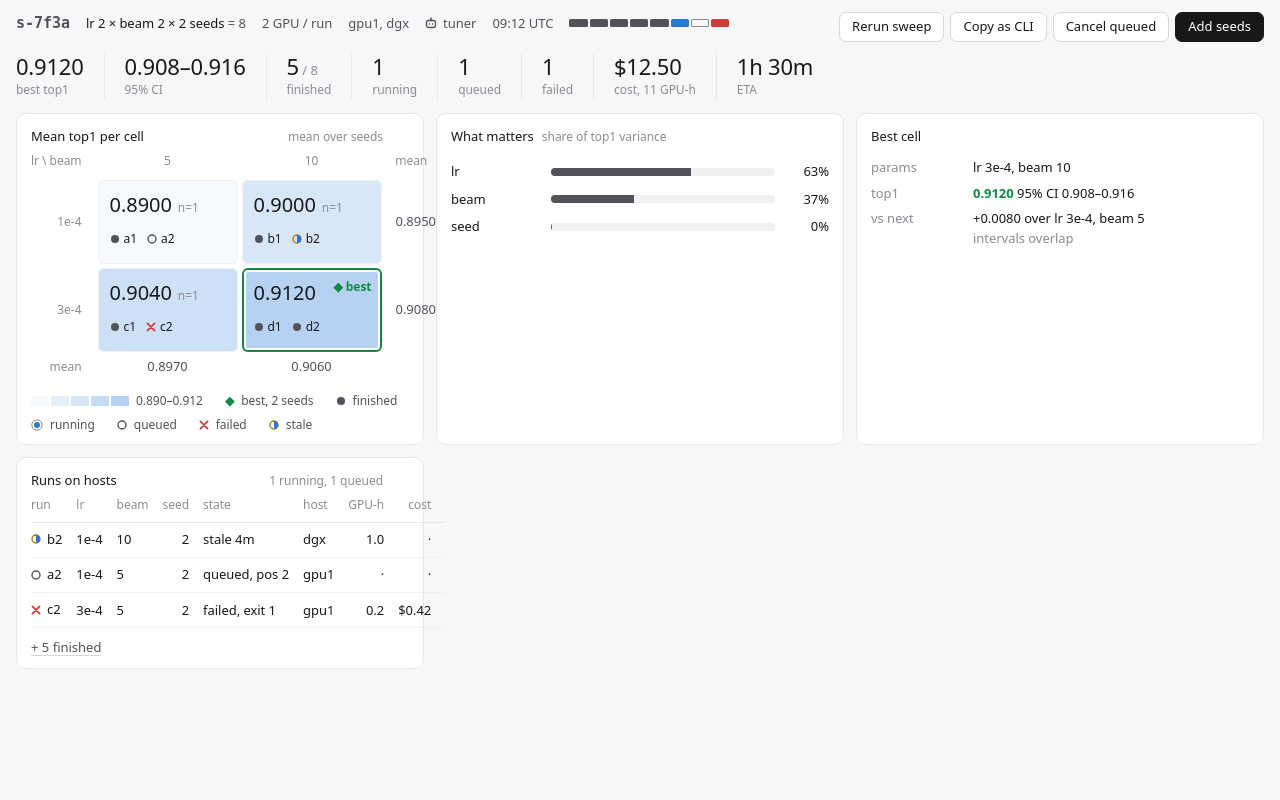
Test: SweepDetail › Add seeds while runs are still queued: new totals, Cancel covers them, later seeds next
What coordinates should you click on to do the following:
click the button "Add seeds"
I would click on:
 (1220, 27)
Its box is [1175,12,1264,42].
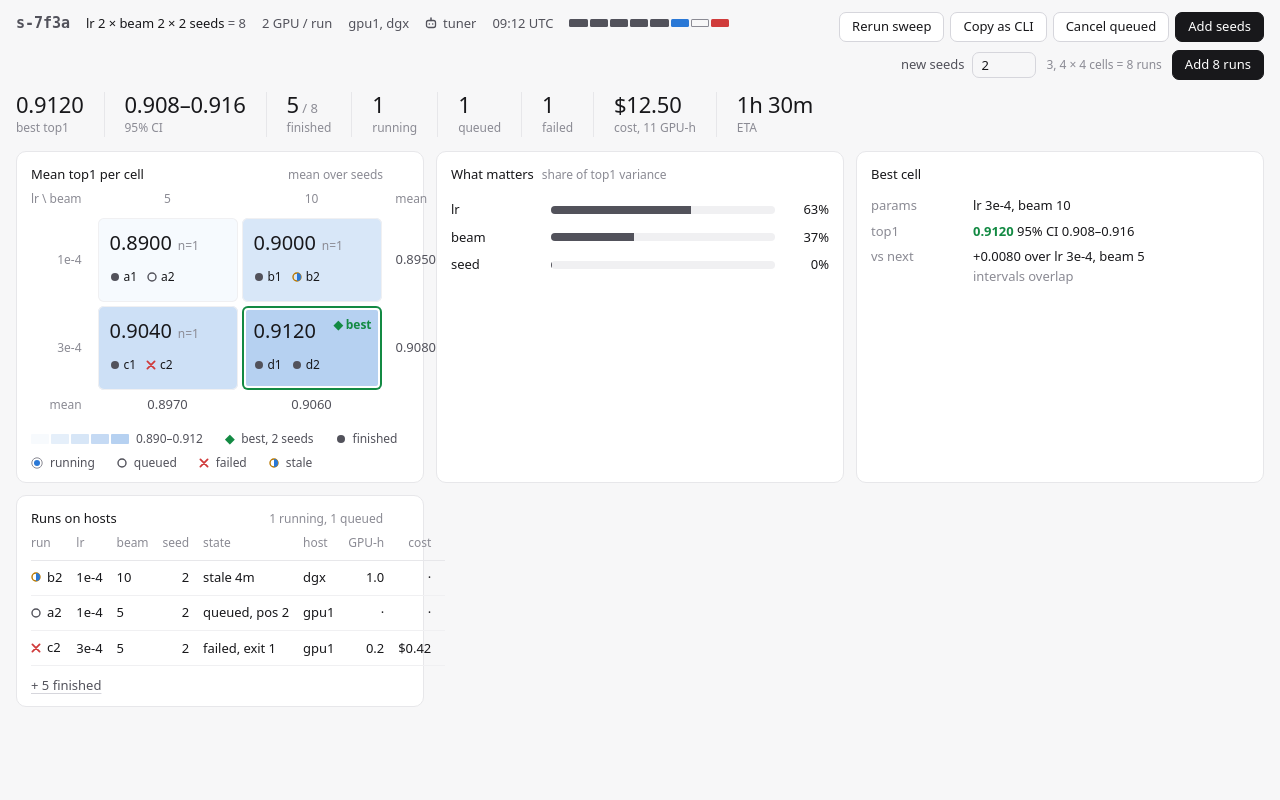
What coordinates should you click on to do the following:
click the button "Add 8 runs"
I would click on:
 (1218, 65)
Its box is [1172,50,1264,80].
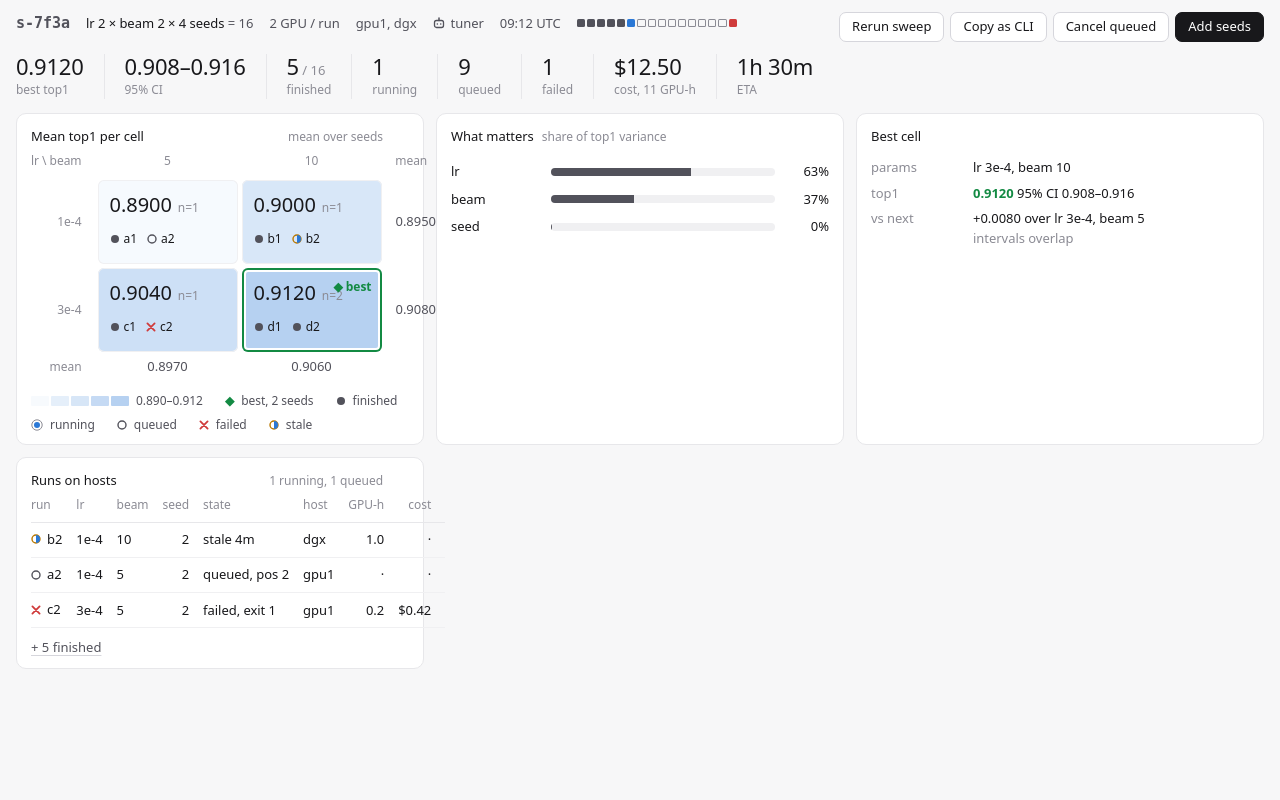
What coordinates should you click on to do the following:
click the button "Add seeds"
I would click on:
 (1220, 27)
Its box is [1175,12,1264,42].
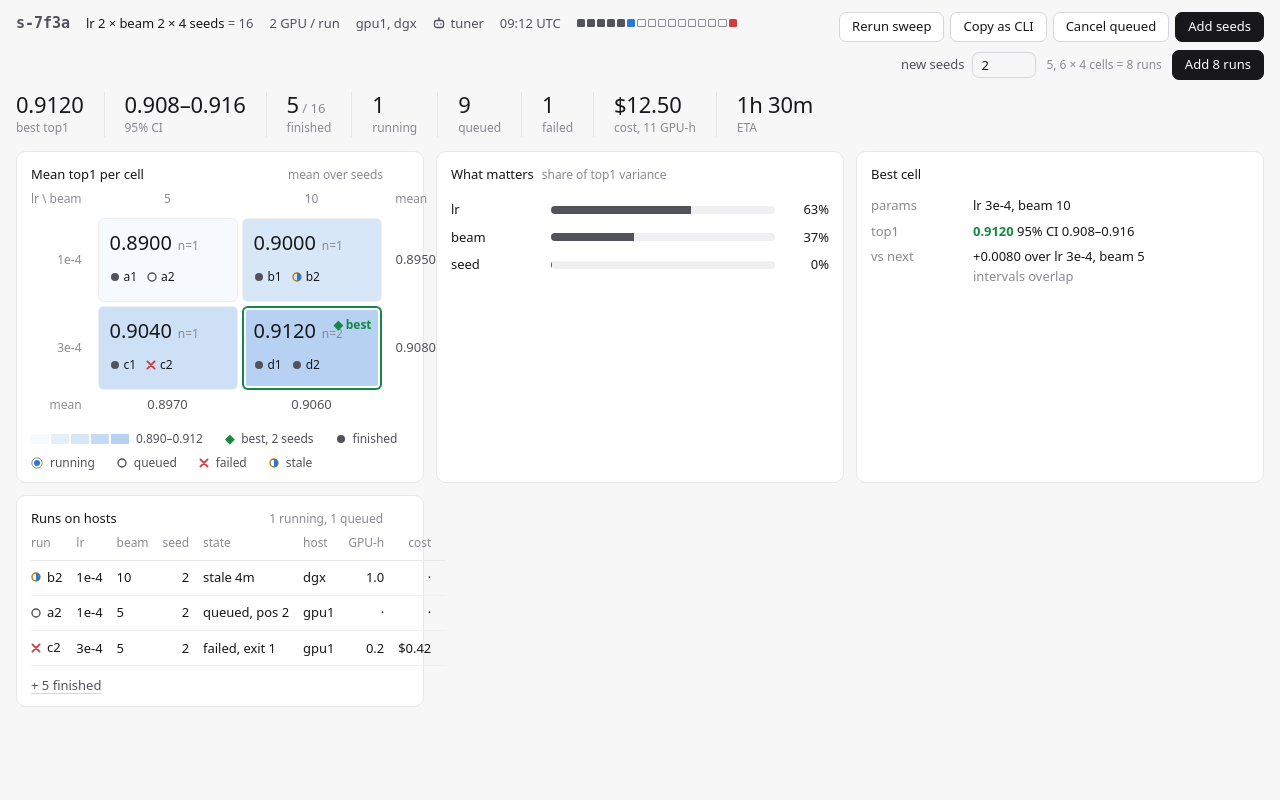
expect the text "5, 6 × 4 cells = 8 runs" is shown: met, box [1046,56,1162,74]
